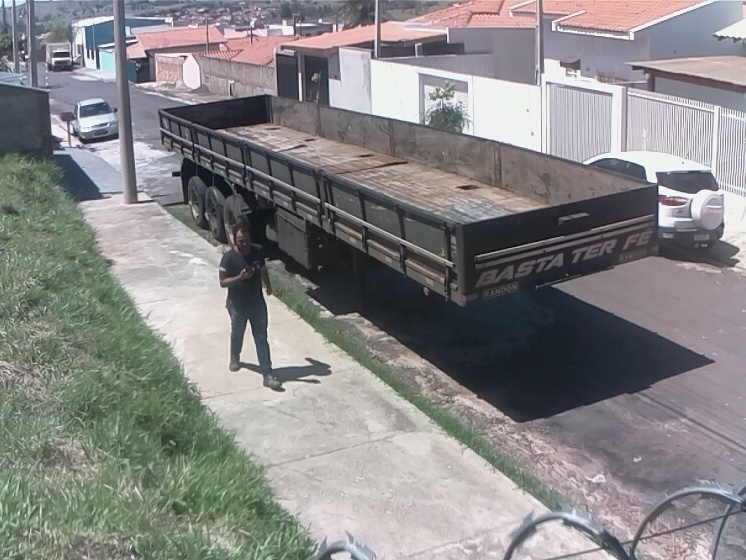person: (218, 220, 286, 394)
